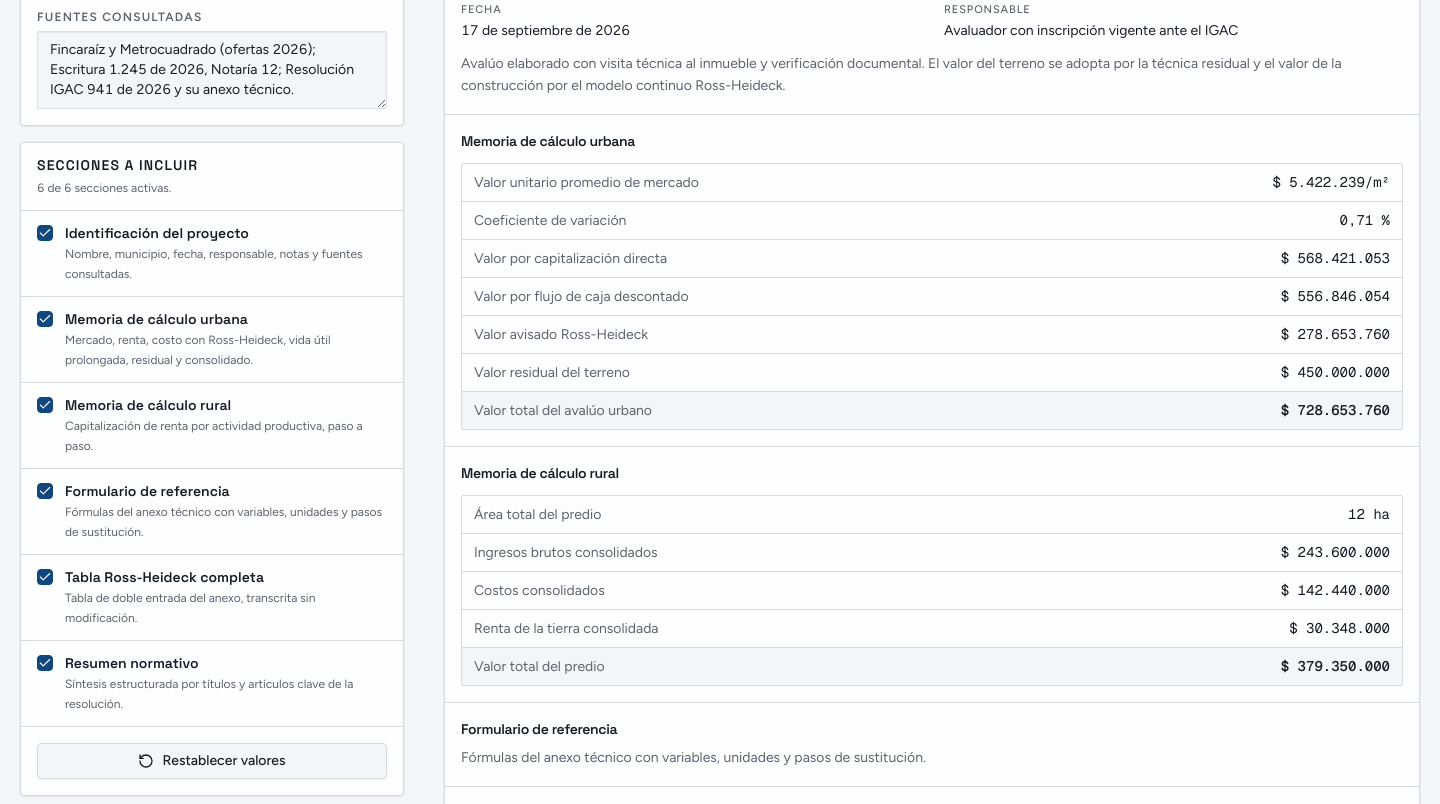
Test case: ExportarPage › excluye una sección de la vista previa al desmarcarla
The image size is (1440, 804).
(page scrolled)
Expected: the element with test id "exportar.preview.rural" is shown, [445,446,1419,702]
What coordinates should you click on to do the following:
click the checkbox with test id "exportar.seccion_checkbox.rural"
I would click on:
 (45, 405)
Its box is [37,397,53,413].
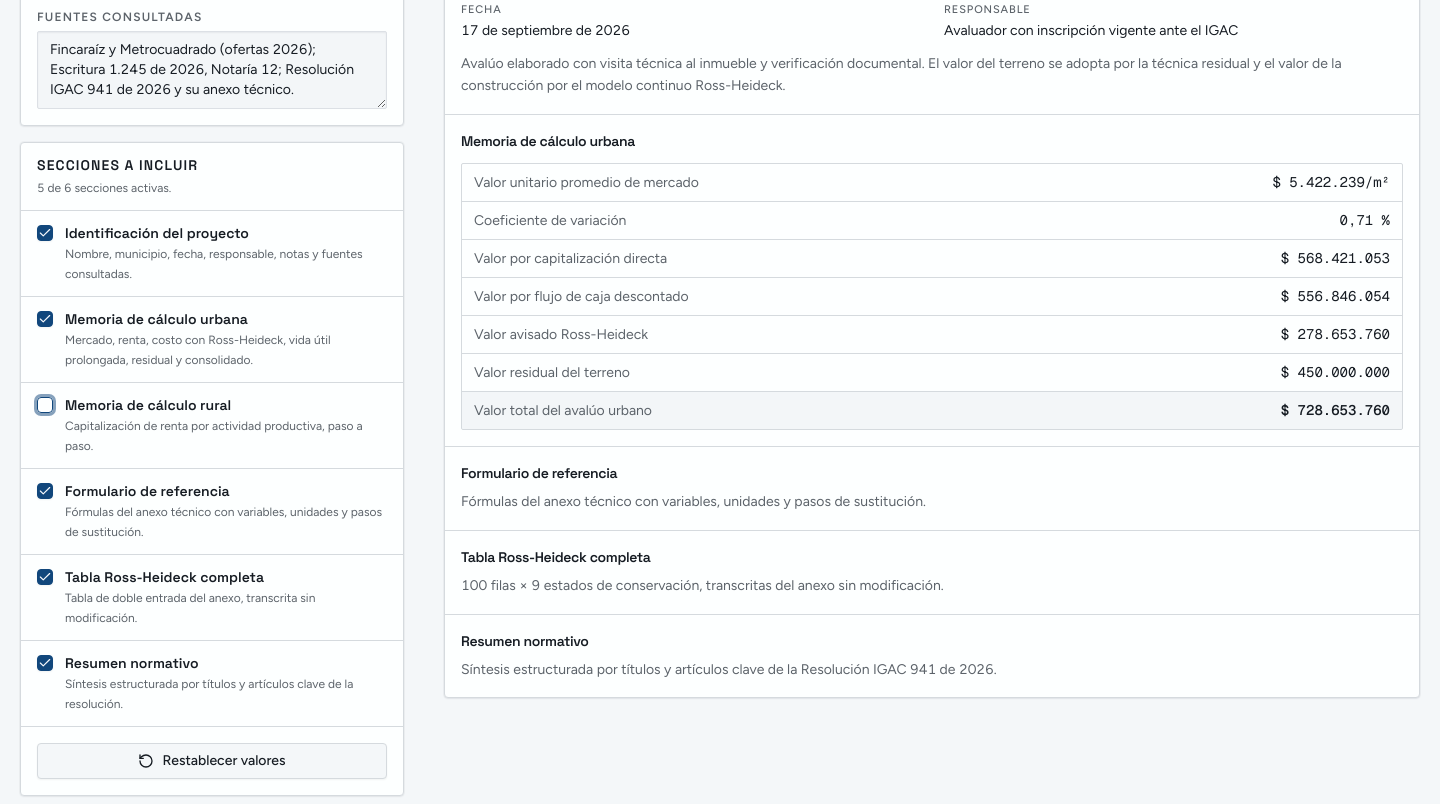
Now the text "5 de 6 secciones activas." is shown, box [37,180,171,194]
